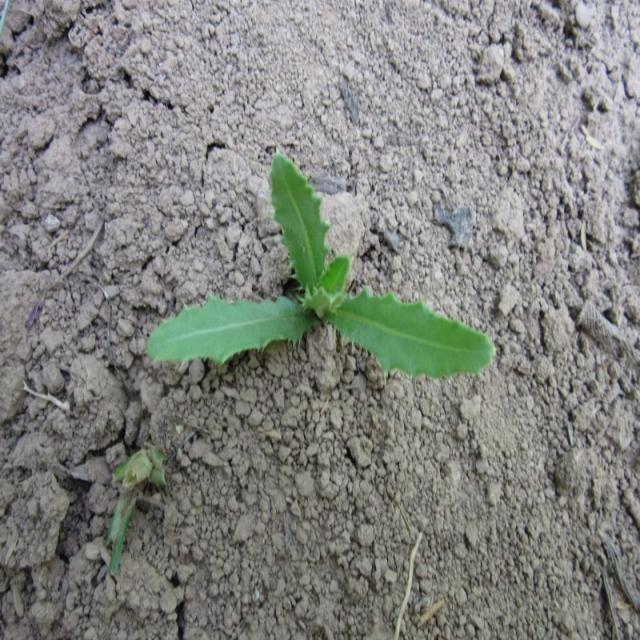cs: (140, 148, 495, 384)
